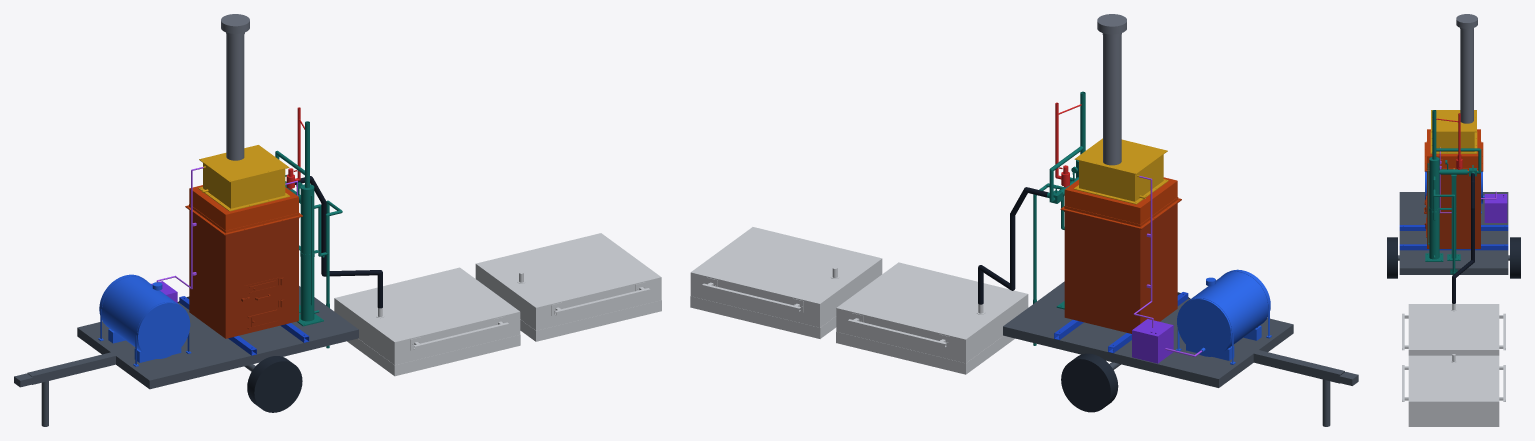
3 renders of one model, left to right at view 1: azimuth 30°, elevation 25°; view 2: azimuth 150°, elevation 25°; view 3: azimuth 270°, elevation 25°, orthographic. The views are drawn at different scales.
Visible parts, largest first — view 1: Steam hoods, 1.2 x 1.0 m (2), Firebox, fiber lined, Trailer frame and drawbar, Feed water tank, 125 L, Flue-gas economizer, Steam header and water-seal vent, Chimney and spark arrestor, Evaporator bank, Wheels, Steam hose, Firebox skids; view 2: Steam hoods, 1.2 x 1.0 m (2), Firebox, fiber lined, Trailer frame and drawbar, Feed water tank, 125 L, Flue-gas economizer, Chimney and spark arrestor, Evaporator bank, Wheels, Steam header and water-seal vent, Pump and alarm box, Steam hose, Firebox skids (+1 smaller); view 3: Steam hoods, 1.2 x 1.0 m (2), Trailer frame and drawbar, Steam header and water-seal vent, Firebox, fiber lined, Flue-gas economizer, Chimney and spark arrestor, Evaporator bank, Wheels, Firebox skids, Pump and alarm box, Steam hose, Certified relief valve (+1 smaller).
Part boxes in pixels (x1,y1,x2,y2): Steam hoods, 1.2 x 1.0 m (2): (334,233,661,376); Firebox, fiber lined: (185,206,302,338); Trailer frame and drawbar: (14,286,358,426); Feed water tank, 125 L: (98,274,191,366); Flue-gas economizer: (198,145,290,211); Steam header and water-seal vent: (275,121,342,348); Chimney and spark arrestor: (221,14,249,160); Evaporator bank: (185,185,302,234); Wheels: (177,296,302,412); Steam hose: (295,176,382,308); Firebox skids: (179,296,309,355); Steam hoods, 1.2 x 1.0 m (2): (690,227,1028,374); Firebox, fiber lined: (1060,199,1181,333); Trailer frame and drawbar: (1003,281,1358,426); Feed water tank, 125 L: (1176,269,1271,364); Flue-gas economizer: (1074,138,1168,204); Chimney and spark arrestor: (1097,14,1126,165); Evaporator bank: (1061,177,1181,228); Wheels: (1061,292,1190,412); Steam header and water-seal vent: (1033,91,1085,345); Pump and alarm box: (1132,319,1173,363); Steam hose: (978,187,1048,304); Firebox skids: (1054,292,1188,353); Steam hoods, 1.2 x 1.0 m (2): (1402,303,1505,426); Trailer frame and drawbar: (1398,192,1509,274); Steam header and water-seal vent: (1425,110,1481,275); Firebox, fiber lined: (1424,170,1483,248); Flue-gas economizer: (1430,110,1477,153); Chimney and spark arrestor: (1456,14,1477,123); Evaporator bank: (1424,129,1483,170); Wheels: (1387,237,1520,278); Firebox skids: (1399,225,1508,250); Pump and alarm box: (1484,194,1507,222); Steam hose: (1452,173,1474,303); Certified relief valve: (1436,113,1462,169).
Bounding box in the file's own units: 5.87 × 3.26 × 1.48.
